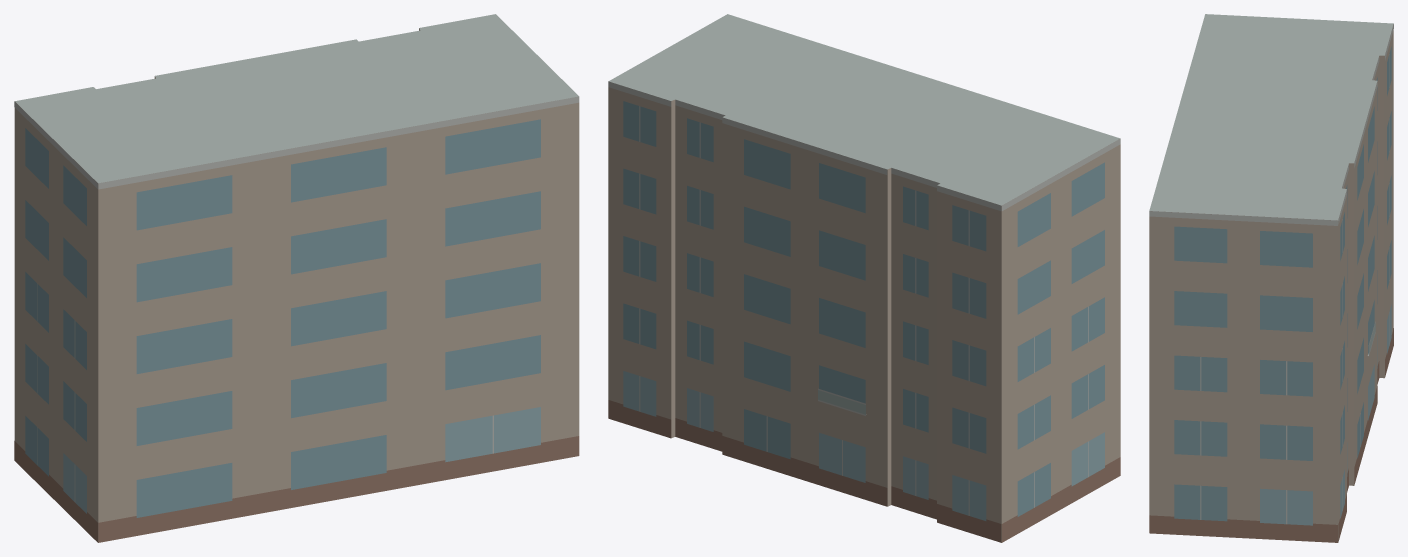
Rendered from survey-upis-32750075.glb.
The picture shows the model from 3 angles, left to right: view 1: azimuth 30°, elevation 25°; view 2: azimuth 150°, elevation 25°; view 3: azimuth 270°, elevation 25°; orthographic projection. The views are drawn at different scales.
Parts seen in each view (by area): view 1: survey-upis-32750075.tmp; view 2: survey-upis-32750075.tmp; view 3: survey-upis-32750075.tmp.
Boxes of the visible parts, box(x1,y1,x2,y2) form: survey-upis-32750075.tmp: box(14, 14, 579, 542); survey-upis-32750075.tmp: box(608, 14, 1120, 542); survey-upis-32750075.tmp: box(1149, 14, 1393, 542).
Bounding box in the file's own units: 19.51 × 14.2 × 9.77.
